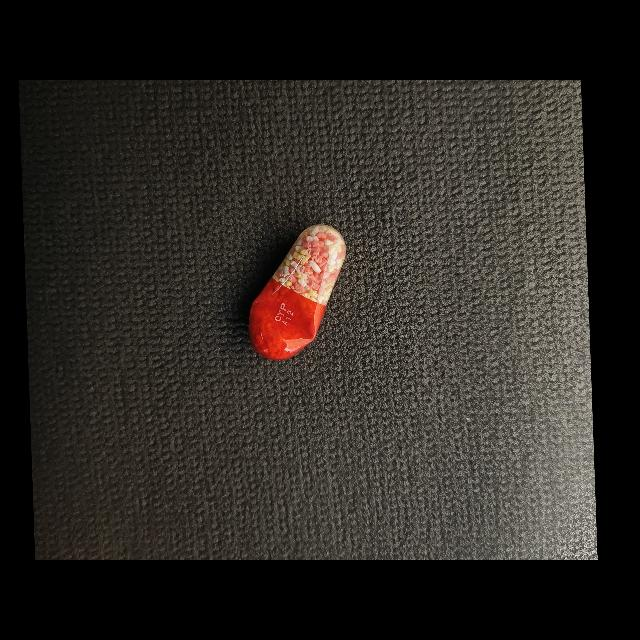Defective Capsule: (248, 224, 346, 360)
